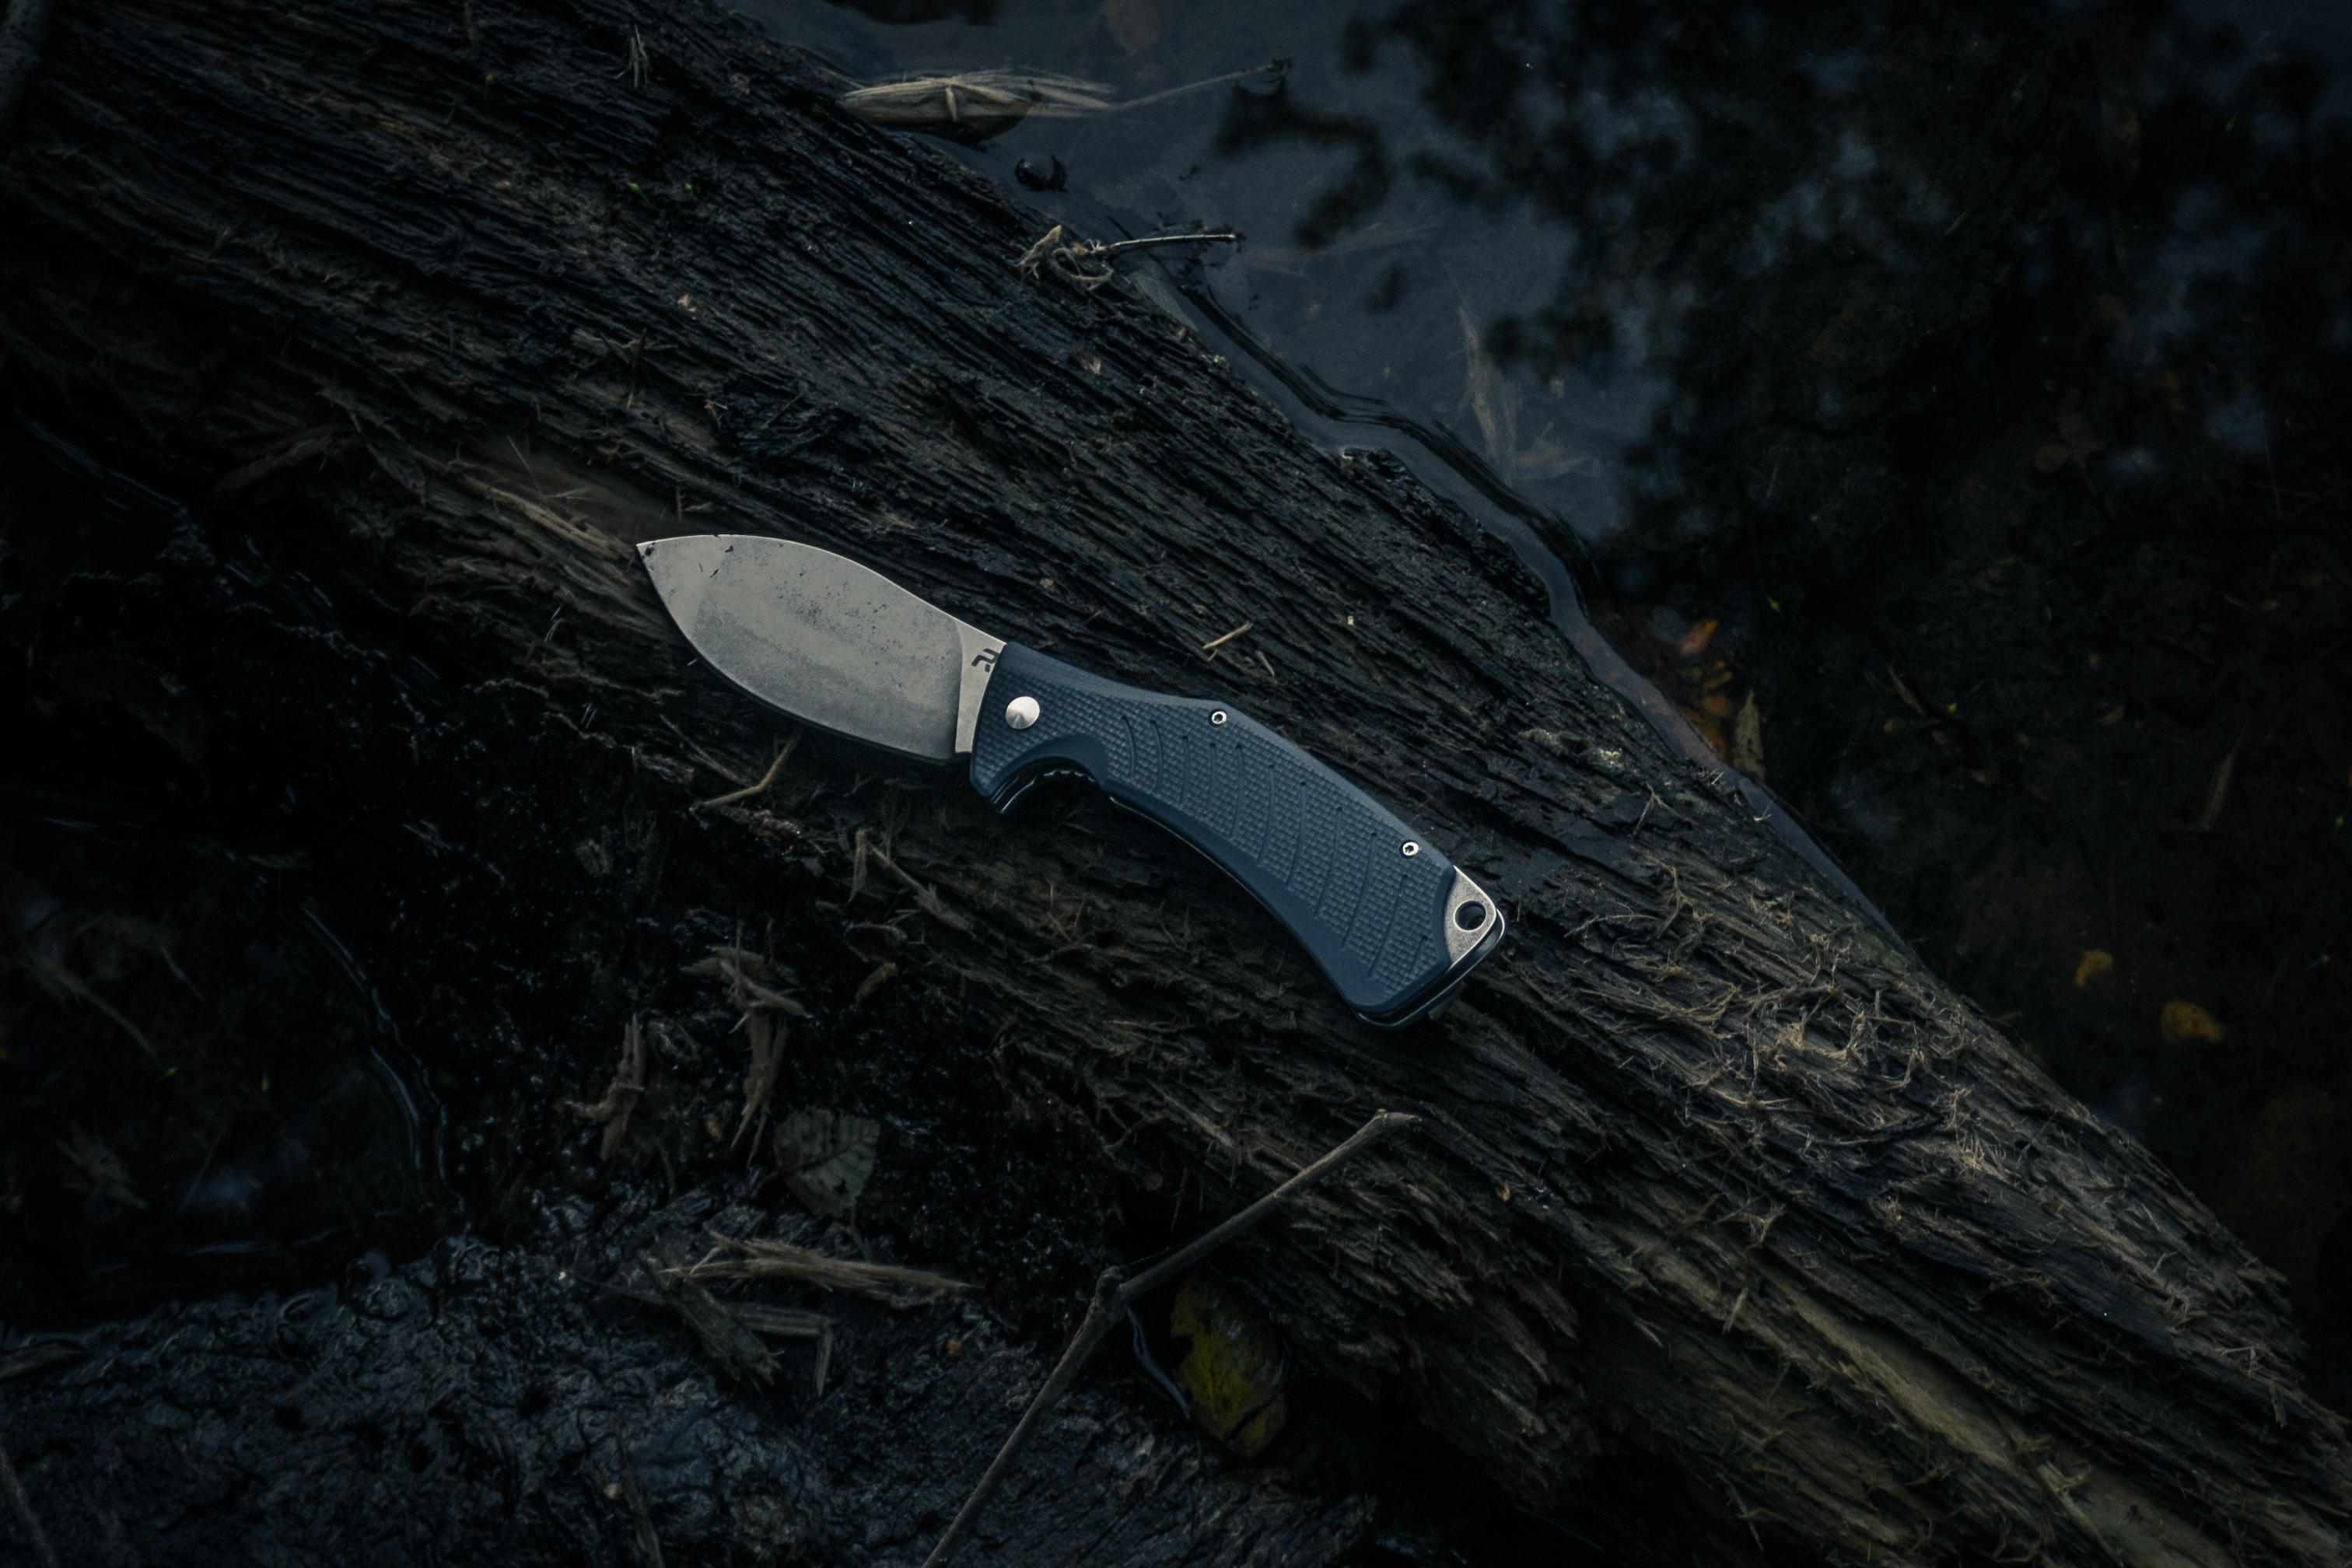knife: (607, 472, 1522, 1036)
